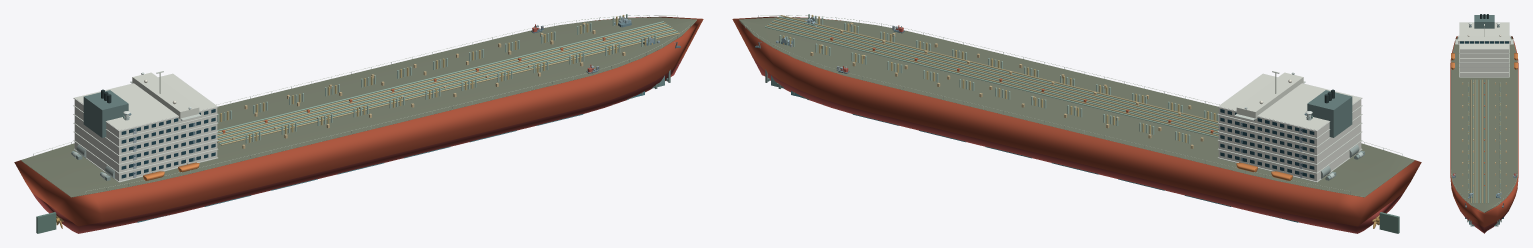
The model's file is bow-pioneer.lod0.glb.
The picture shows the model from 3 angles, left to right: view 1: azimuth 30°, elevation 25°; view 2: azimuth 150°, elevation 25°; view 3: azimuth 270°, elevation 25°; orthographic projection. The views are drawn at different scales.
Visible parts, largest first — view 1: bow-pioneer.structure.decks.main-strength-deck.1, bow-pioneer.structure.hull.outer-hull-shell.1, bow-pioneer.structure.hull.antifouling-underwater-shell.1, bow-pioneer.accommodation.superstructure.deck-6-enclosure.1, bow-pioneer.propulsion.exhaust.exhaust-casing.1, bow-pioneer.navigation.bridge.wheelhouse.1, bow-pioneer.accommodation.superstructure.deck-3-enclosure.1, bow-pioneer.accommodation.superstructure.deck-2-enclosure.1, bow-pioneer.accommodation.superstructure.deck-4-enclosure.1, bow-pioneer.cargo.deck-piping.cargo-pipeline-6.1, bow-pioneer.cargo.deck-piping.cargo-pipeline-7.1, bow-pioneer.cargo.deck-piping.cargo-pipeline-5.1 (+10 smaller); view 2: bow-pioneer.structure.decks.main-strength-deck.1, bow-pioneer.structure.hull.outer-hull-shell.1, bow-pioneer.structure.hull.antifouling-underwater-shell.1, bow-pioneer.accommodation.superstructure.deck-6-enclosure.1, bow-pioneer.propulsion.exhaust.exhaust-casing.1, bow-pioneer.navigation.bridge.wheelhouse.1, bow-pioneer.accommodation.superstructure.deck-3-enclosure.1, bow-pioneer.accommodation.superstructure.deck-2-enclosure.1, bow-pioneer.accommodation.superstructure.deck-4-enclosure.1, bow-pioneer.cargo.deck-piping.cargo-pipeline-1.1, bow-pioneer.cargo.deck-piping.cargo-pipeline-2.1, bow-pioneer.cargo.deck-piping.cargo-pipeline-5.1 (+10 smaller); view 3: bow-pioneer.structure.decks.main-strength-deck.1, bow-pioneer.structure.hull.outer-hull-shell.1, bow-pioneer.accommodation.superstructure.deck-6-enclosure.1, bow-pioneer.navigation.bridge.wheelhouse.1, bow-pioneer.propulsion.exhaust.exhaust-casing.1, bow-pioneer.cargo.deck-piping.cargo-pipeline-6.1, bow-pioneer.cargo.deck-piping.cargo-pipeline-7.1, bow-pioneer.cargo.deck-piping.cargo-pipeline-8.1, bow-pioneer.accommodation.superstructure.deck-1-enclosure.1, bow-pioneer.accommodation.superstructure.deck-2-enclosure.1, bow-pioneer.accommodation.superstructure.deck-3-enclosure.1, bow-pioneer.accommodation.superstructure.deck-4-enclosure.1 (+16 smaller).
Part boxes in pixels (x1,y1,x2,y2): bow-pioneer.structure.decks.main-strength-deck.1: (21,17,696,197); bow-pioneer.structure.hull.outer-hull-shell.1: (14,16,703,226); bow-pioneer.structure.hull.antifouling-underwater-shell.1: (32,56,683,233); bow-pioneer.accommodation.superstructure.deck-6-enclosure.1: (74,74,217,137); bow-pioneer.propulsion.exhaust.exhaust-casing.1: (83,90,128,137); bow-pioneer.navigation.bridge.wheelhouse.1: (132,72,199,119); bow-pioneer.accommodation.superstructure.deck-3-enclosure.1: (74,124,217,163); bow-pioneer.accommodation.superstructure.deck-2-enclosure.1: (74,133,217,172); bow-pioneer.accommodation.superstructure.deck-4-enclosure.1: (74,116,217,155); bow-pioneer.cargo.deck-piping.cargo-pipeline-6.1: (217,27,672,139); bow-pioneer.cargo.deck-piping.cargo-pipeline-7.1: (217,29,674,141); bow-pioneer.cargo.deck-piping.cargo-pipeline-5.1: (217,26,670,137); bow-pioneer.structure.decks.main-strength-deck.1: (739,17,1414,197); bow-pioneer.structure.hull.outer-hull-shell.1: (732,16,1421,226); bow-pioneer.structure.hull.antifouling-underwater-shell.1: (752,56,1403,233); bow-pioneer.accommodation.superstructure.deck-6-enclosure.1: (1218,74,1361,137); bow-pioneer.propulsion.exhaust.exhaust-casing.1: (1307,90,1352,137); bow-pioneer.navigation.bridge.wheelhouse.1: (1236,72,1303,119); bow-pioneer.accommodation.superstructure.deck-3-enclosure.1: (1218,124,1361,163); bow-pioneer.accommodation.superstructure.deck-2-enclosure.1: (1218,133,1361,172); bow-pioneer.accommodation.superstructure.deck-4-enclosure.1: (1218,116,1361,155); bow-pioneer.cargo.deck-piping.cargo-pipeline-1.1: (765,26,1218,137); bow-pioneer.cargo.deck-piping.cargo-pipeline-2.1: (766,25,1218,136); bow-pioneer.cargo.deck-piping.cargo-pipeline-5.1: (772,21,1218,131); bow-pioneer.structure.decks.main-strength-deck.1: (1451,37,1517,212); bow-pioneer.structure.hull.outer-hull-shell.1: (1450,36,1518,227); bow-pioneer.accommodation.superstructure.deck-6-enclosure.1: (1460,22,1508,52); bow-pioneer.navigation.bridge.wheelhouse.1: (1458,35,1510,44); bow-pioneer.propulsion.exhaust.exhaust-casing.1: (1474,15,1494,28); bow-pioneer.cargo.deck-piping.cargo-pipeline-6.1: (1478,79,1479,203); bow-pioneer.cargo.deck-piping.cargo-pipeline-7.1: (1476,80,1477,203); bow-pioneer.cargo.deck-piping.cargo-pipeline-8.1: (1474,80,1475,202); bow-pioneer.accommodation.superstructure.deck-1-enclosure.1: (1460,72,1508,76); bow-pioneer.accommodation.superstructure.deck-2-enclosure.1: (1460,68,1508,72); bow-pioneer.accommodation.superstructure.deck-3-enclosure.1: (1460,63,1508,67); bow-pioneer.accommodation.superstructure.deck-4-enclosure.1: (1460,58,1508,62).
Bounding box in the file's own units: 229 × 43.12 × 37.
